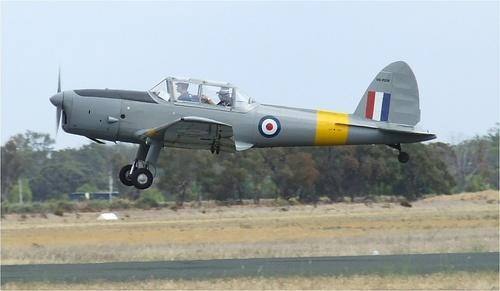aeroplane: (47, 61, 440, 192)
